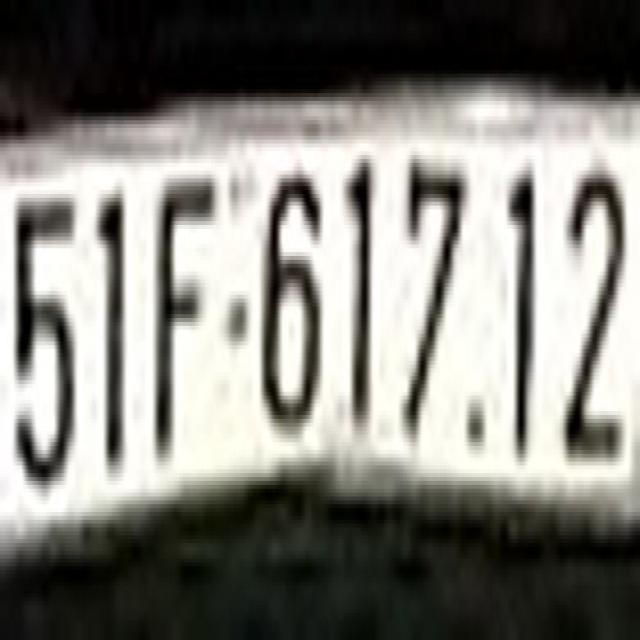1: (502, 148, 534, 474), (94, 174, 128, 473), (342, 155, 373, 431)
2: (558, 167, 626, 481)
5: (12, 182, 76, 493)
6: (262, 155, 325, 454)
7: (400, 144, 464, 438)
F: (154, 155, 216, 454)
